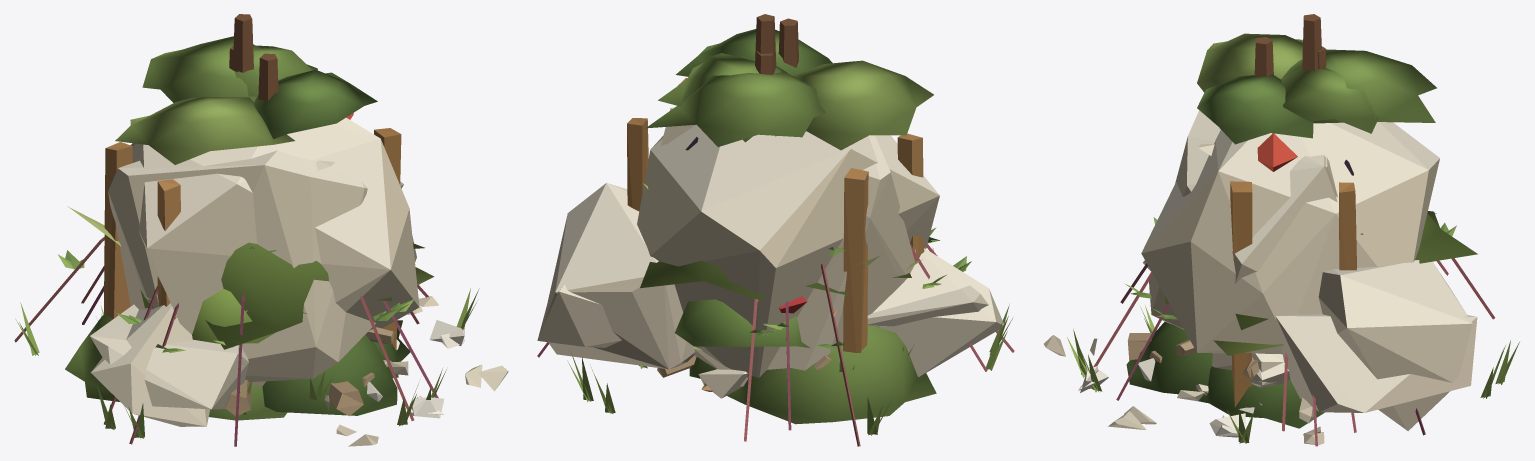
The model's file is aubrune-recoltes.glb.
3 renders of one model, left to right at view 1: azimuth 30°, elevation 25°; view 2: azimuth 150°, elevation 25°; view 3: azimuth 270°, elevation 25°, orthographic.
Parts seen in each view (by area): view 1: boulder-mossy, boulder, bramble, berry-bush, woodpile, bramble-b, fishing-spot, boulder-chipped, boulder-mossy-chipped, dead-branches, dead-branches-b; view 2: boulder-mossy, boulder, bramble, woodpile, berry-bush, fishing-spot, bramble-b, stone, boulder-mossy-chipped; view 3: boulder, boulder-mossy, bramble, bramble-b, woodpile, fishing-spot, berry-bush, boulder-mossy-chipped, rock-mossy, boulder-chipped, dead-branches, rock (+1 smaller).
Part boxes in pixels (<box>): boulder-mossy: <box>91,36,479,438</box>; boulder: <box>15,117,419,429</box>; bramble: <box>14,237,414,446</box>; berry-bush: <box>140,242,434,349</box>; woodpile: <box>104,128,401,351</box>; bramble-b: <box>81,266,438,424</box>; fishing-spot: <box>67,14,353,299</box>; boulder-chipped: <box>348,305,482,446</box>; boulder-mossy-chipped: <box>336,296,508,436</box>; dead-branches: <box>328,327,394,416</box>; dead-branches-b: <box>225,372,374,415</box>; boulder-mossy: <box>542,29,1012,413</box>; boulder: <box>537,125,1007,435</box>; bramble: <box>537,137,1014,446</box>; woodpile: <box>627,78,924,352</box>; berry-bush: <box>640,237,939,348</box>; fishing-spot: <box>755,14,922,274</box>; bramble-b: <box>689,244,987,441</box>; stone: <box>698,369,747,398</box>; boulder-mossy-chipped: <box>665,124,879,218</box>; boulder: <box>1067,122,1505,412</box>; boulder-mossy: <box>1077,33,1519,443</box>; bramble: <box>1093,159,1448,435</box>; bramble-b: <box>1116,222,1494,446</box>; woodpile: <box>1230,181,1356,407</box>; fishing-spot: <box>1254,14,1326,171</box>; berry-bush: <box>1165,211,1477,355</box>; boulder-mossy-chipped: <box>1078,157,1337,445</box>; rock-mossy: <box>1140,305,1283,385</box>; boulder-chipped: <box>1044,335,1320,435</box>; dead-branches: <box>1127,333,1196,360</box>; rock: <box>1230,354,1290,387</box>.
Size of the model in its own units: 1.46 by 1.19 by 1.53.
